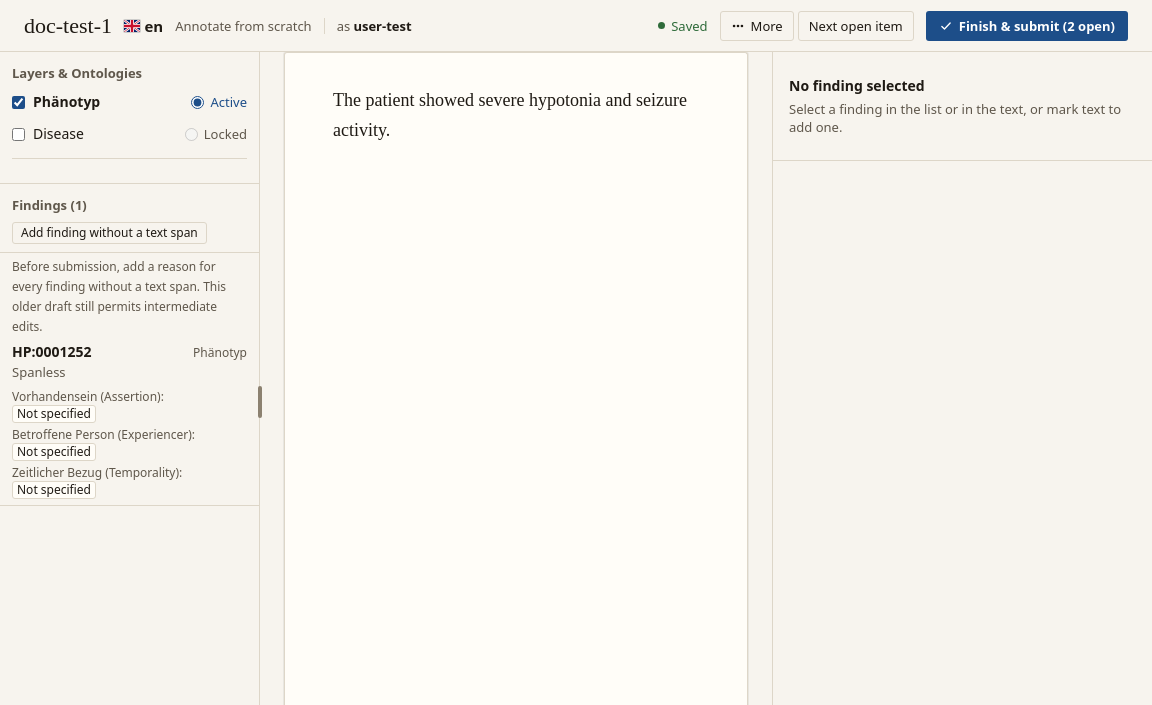
Test: CaseScreen integration › editor logout guard › a_failed_flush_does_not_log_out: {"name":"ValidationError","status":422,"code":"VALIDATION_ERROR"}
This screenshot has width=1152, height=705.
Click the button that starts with "HP:0001252": (130, 422) [0,337,259,506]
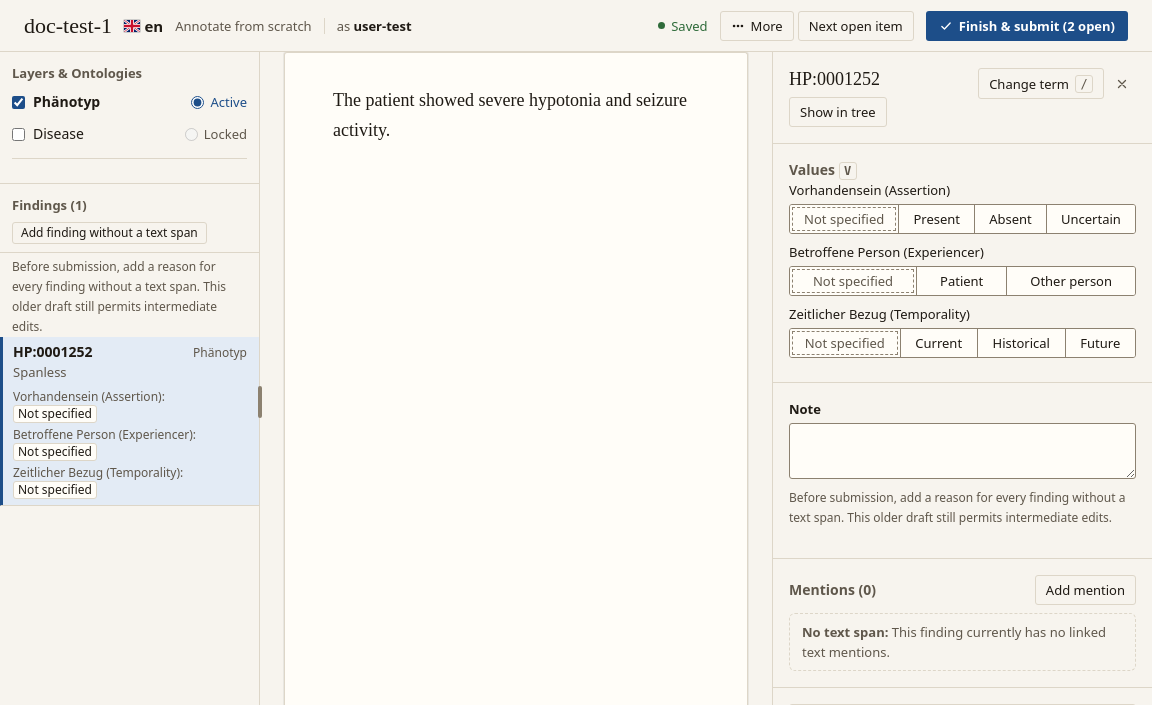
Click the radio button labelled "Present": (936, 219) [898,205,974,233]
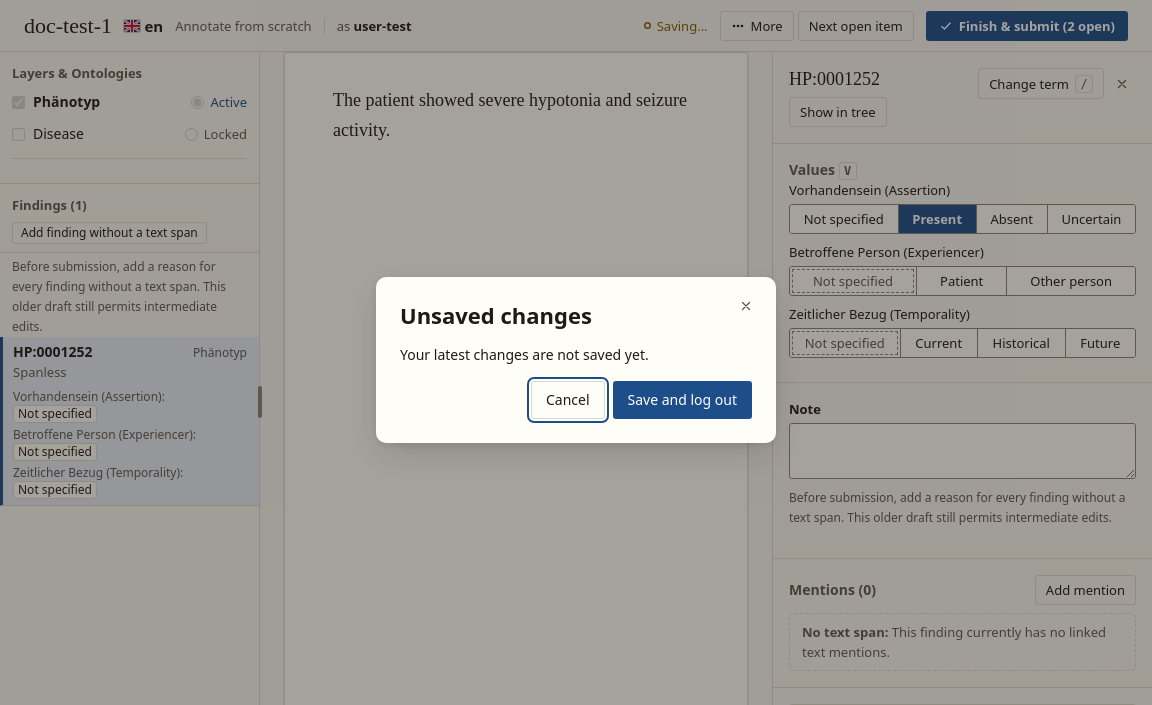
Click the button "Save and log out": (682, 400) [612,381,752,419]
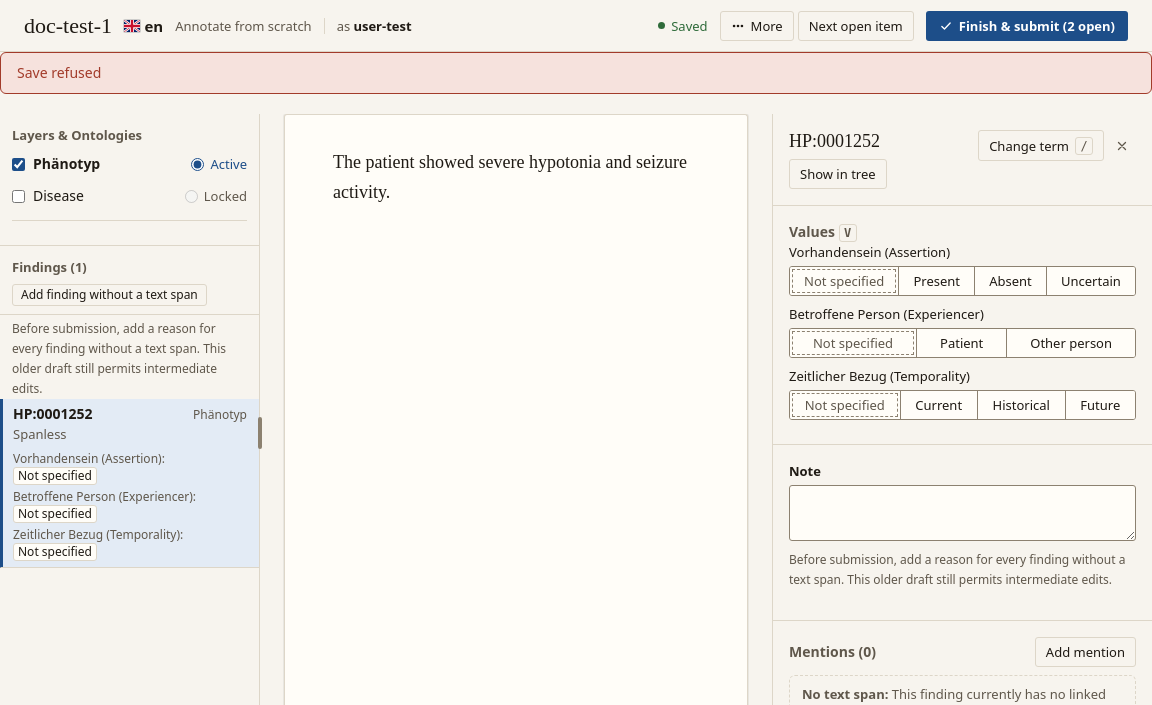
Now the dialog is gone
Now the message "Save refused" is shown, box [0,52,1151,94]
